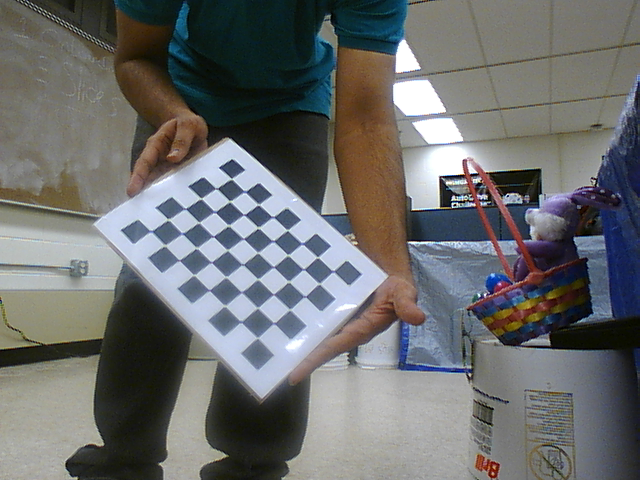bunny: (454, 149, 605, 347)
